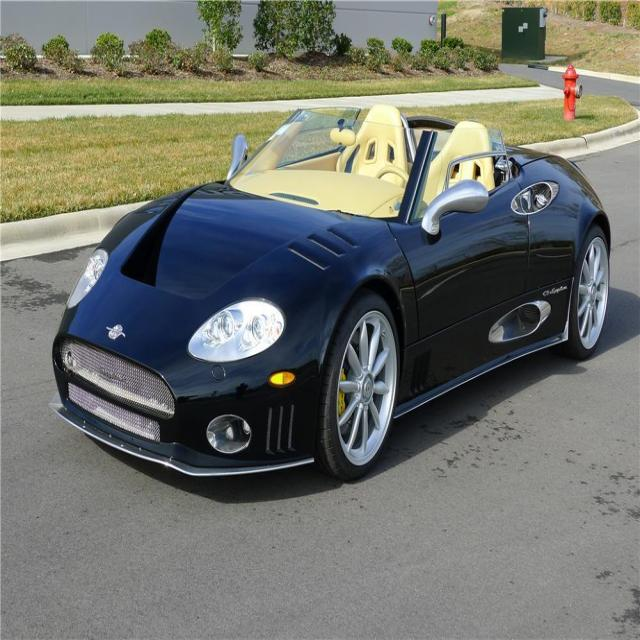Car: (52, 110, 625, 494)
